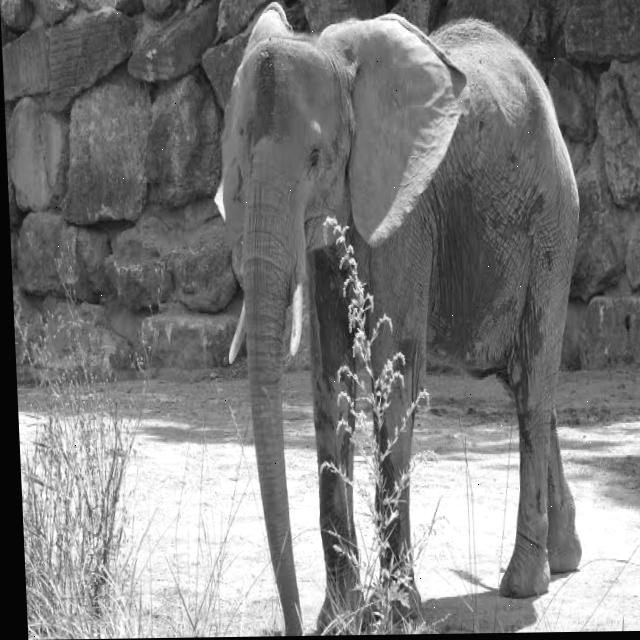Elephant: (210, 0, 599, 634)
